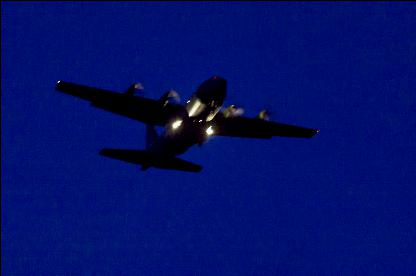Be200: (53, 74, 316, 172)
